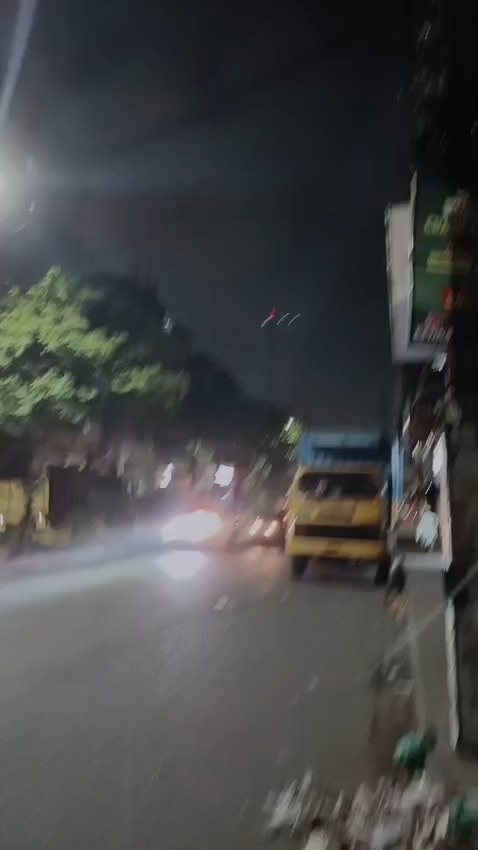Truck: (278, 417, 400, 600)
